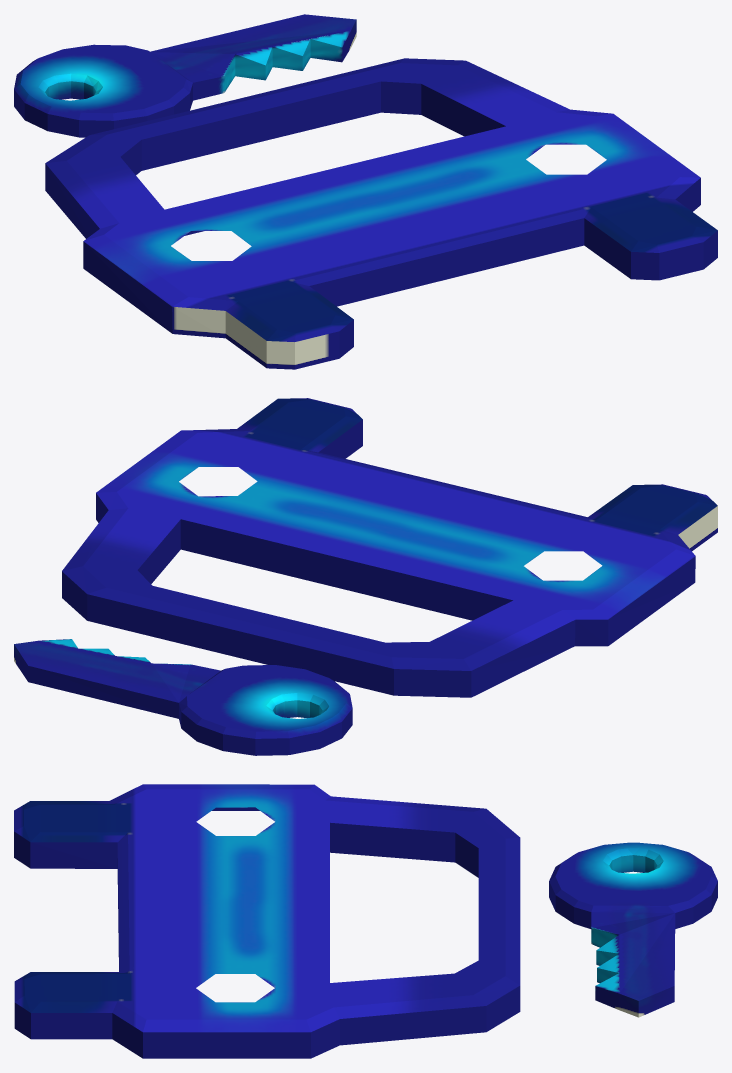
Rendered from model_rented_car.obj.
The picture shows the model from 3 angles, top to bottom: view 1: azimuth 30°, elevation 25°; view 2: azimuth 150°, elevation 25°; view 3: azimuth 270°, elevation 25°; orthographic projection. The views are drawn at different scales.
Visible parts, largest first — view 1: Car_Plane.002, Key_Circle; view 2: Car_Plane.002, Key_Circle; view 3: Car_Plane.002, Key_Circle.
Boxes of the visible parts, <box> form: Car_Plane.002: <box>45,58,717,369</box>; Key_Circle: <box>14,14,356,137</box>; Car_Plane.002: <box>62,398,717,697</box>; Key_Circle: <box>14,639,352,755</box>; Car_Plane.002: <box>14,784,520,1058</box>; Key_Circle: <box>549,842,717,1017</box>.
Size of the model in its own units: 1.69 by 0.0956 by 2.03.
1 material, 1 textured.
